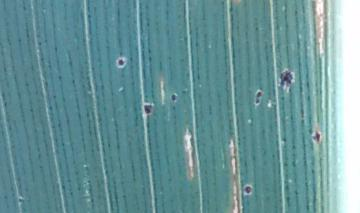tarspot: (280, 69, 293, 85), (142, 103, 152, 115), (312, 132, 321, 143), (117, 58, 125, 67), (244, 185, 252, 194), (171, 94, 177, 102), (256, 91, 262, 98), (255, 99, 260, 104)
